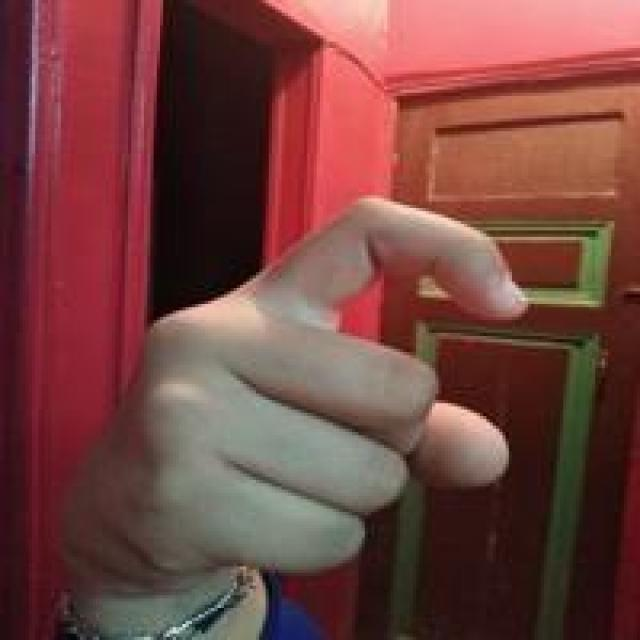X: (98, 189, 530, 627)
